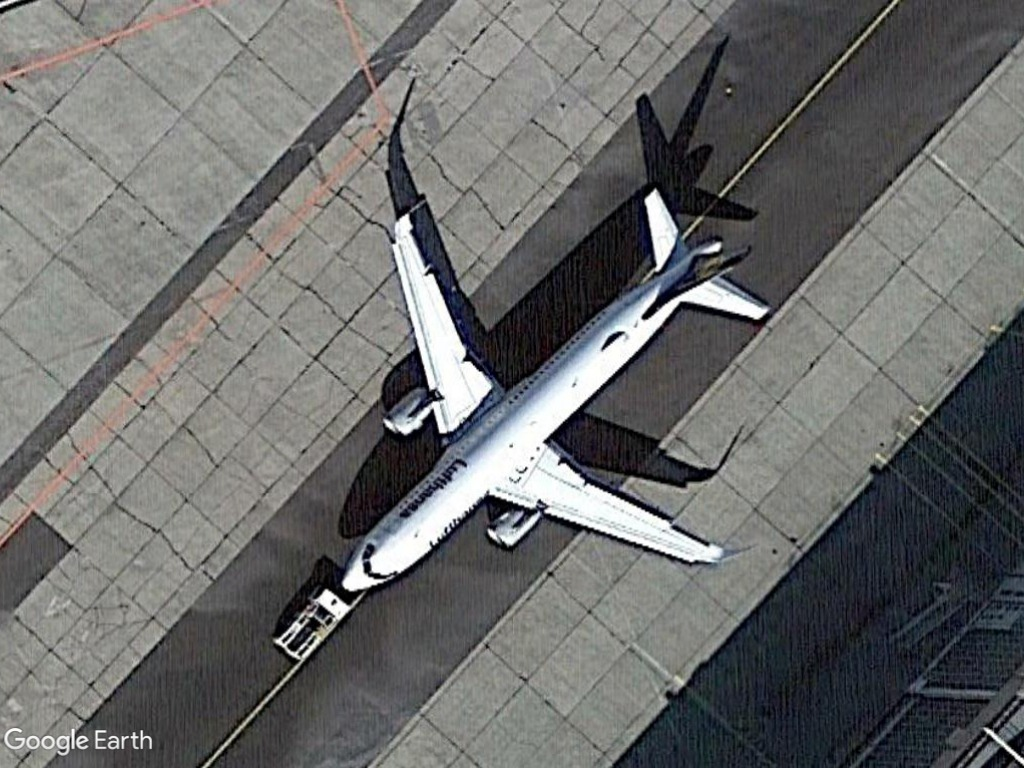airliner: (334, 186, 774, 603)
pushbacktruck: (261, 582, 353, 669)
